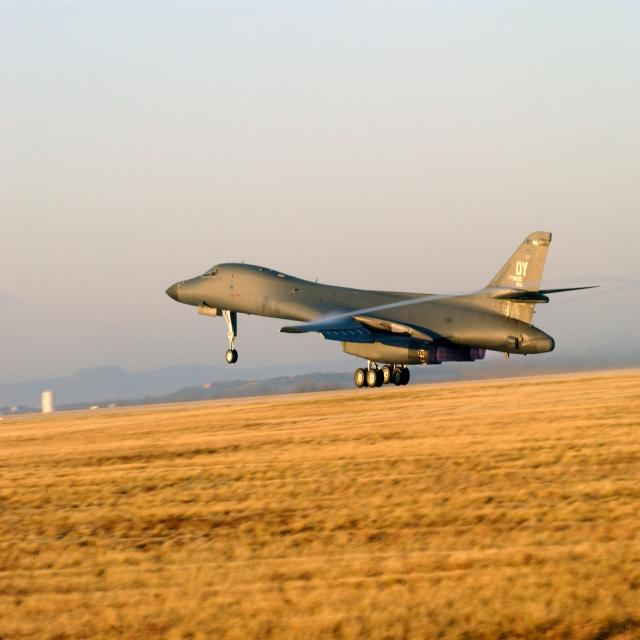MIL_Plane: (165, 263, 601, 356)
